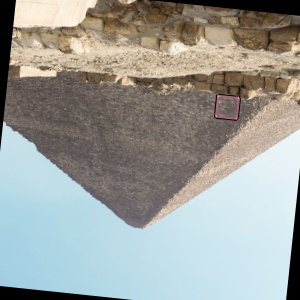square: (212, 92, 241, 121)
